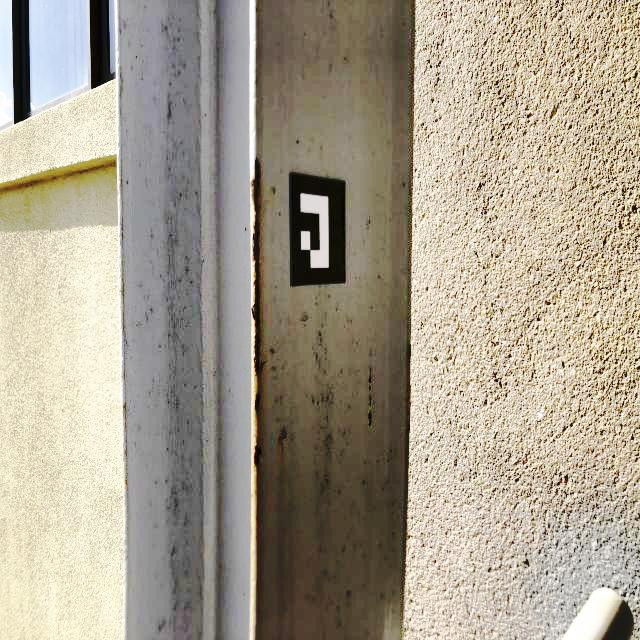Corrosion: (251, 155, 262, 484), (369, 386, 371, 406), (369, 368, 371, 384), (369, 411, 371, 426)
